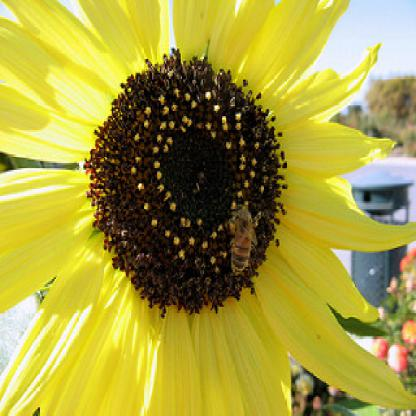SUN FLOWER: (34, 4, 372, 360)
